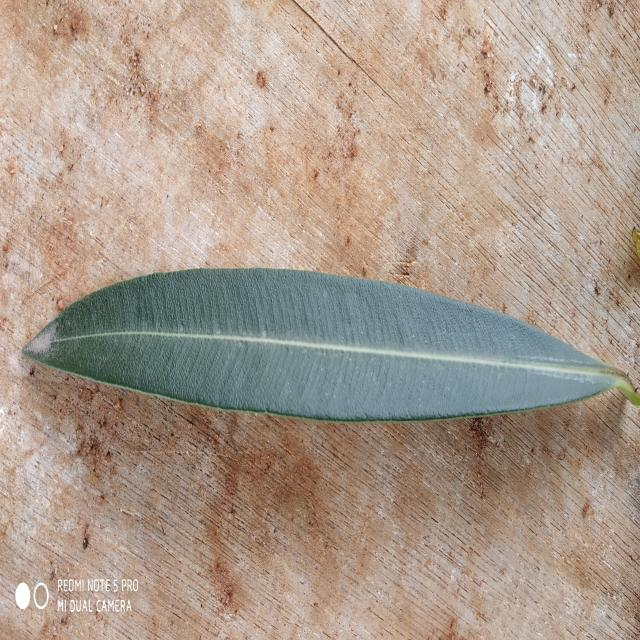ganigale: (24, 269, 640, 420)
